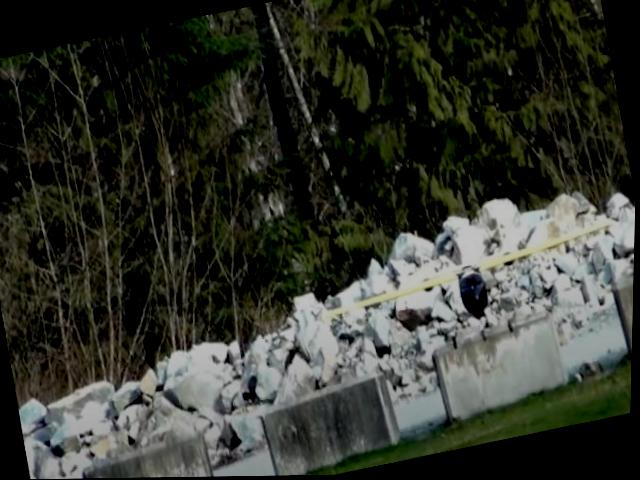iha: (323, 213, 625, 339)
